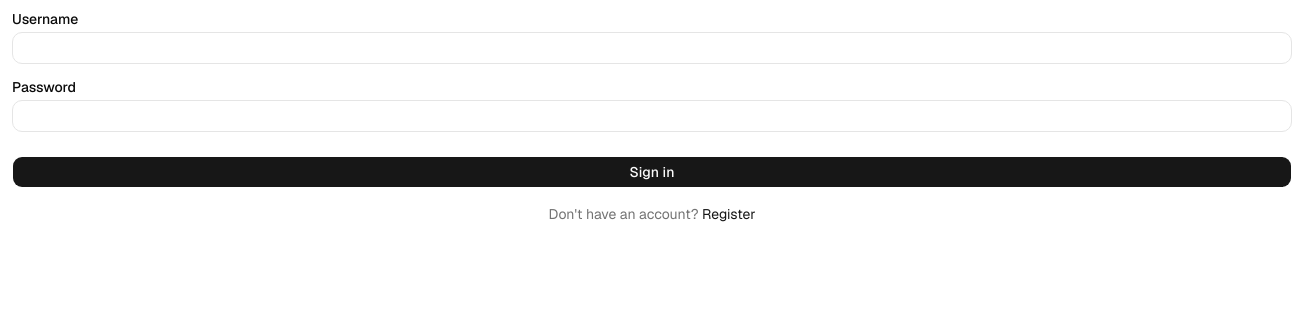
LoginForm › login failure › renders 401 as user-friendly message, not server detail
The image size is (1304, 315).
In the field labelled "Username": (652,48) [12, 32, 1292, 64], type "testuser"
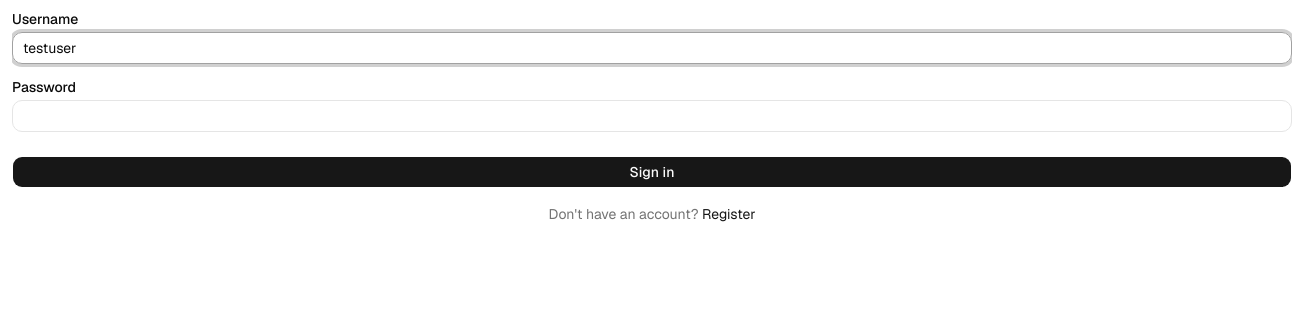
In the password field labelled "Password": (652,116) [12, 100, 1292, 132], type "wrongpassword"
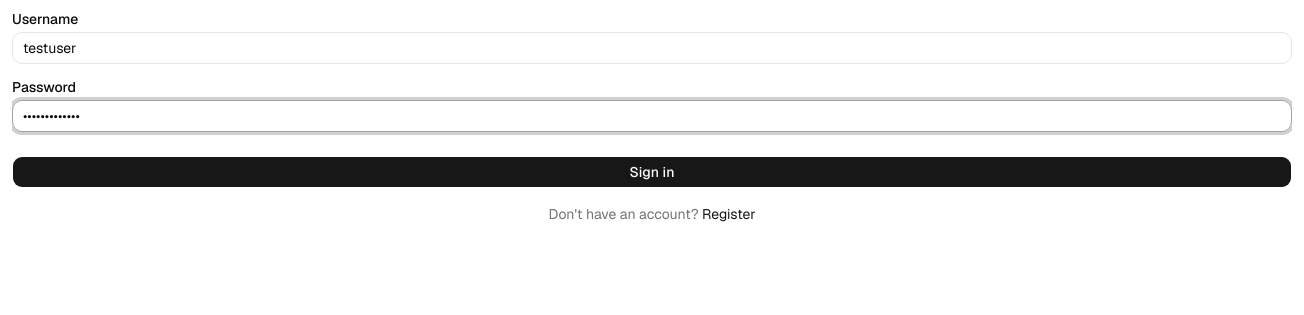
Click the button "Sign in": (652,172) [12, 156, 1292, 188]
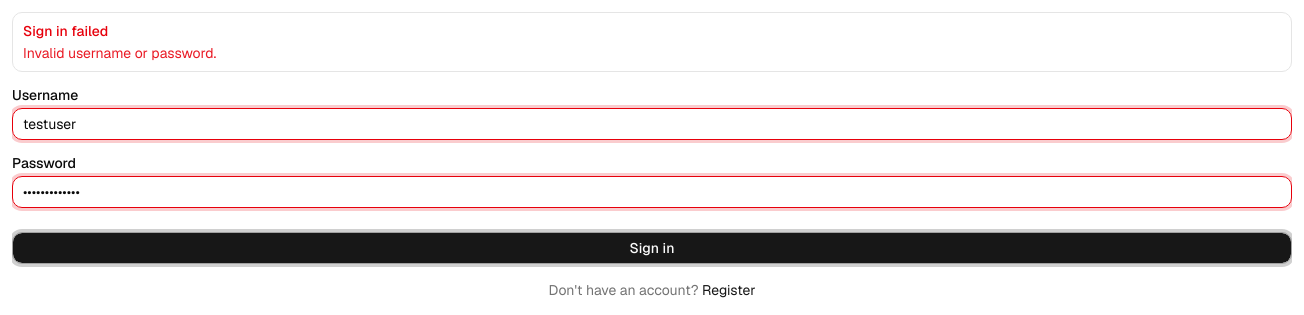
Check: the text "Invalid username or password." is shown, box [23, 44, 216, 62]
